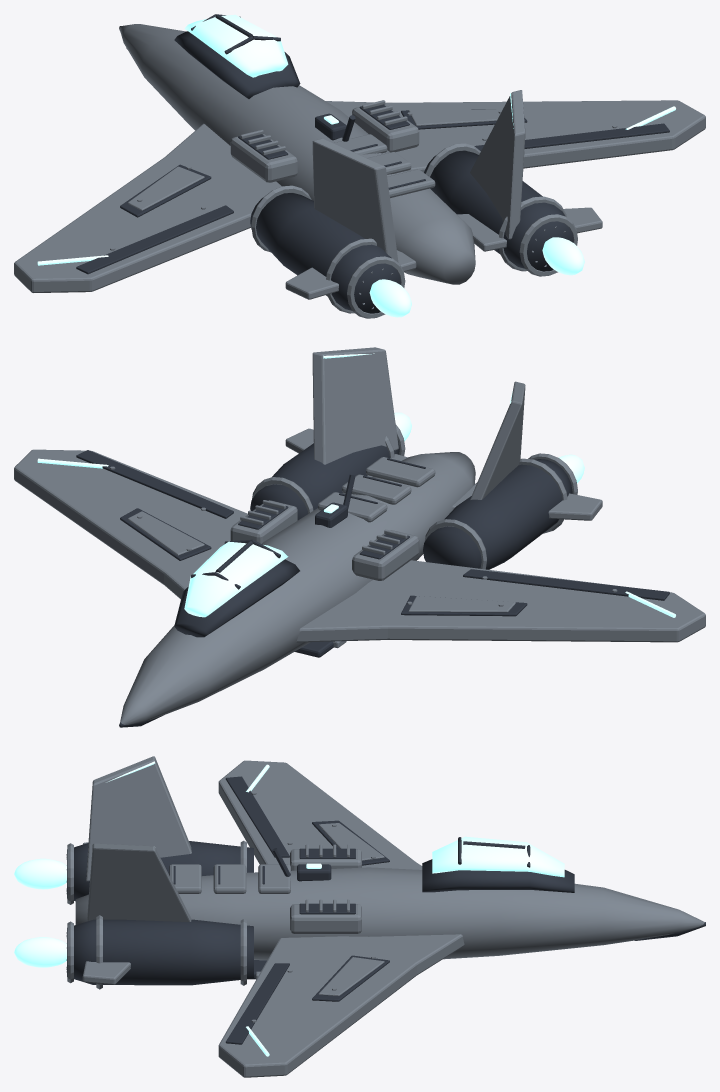
Rendered from SpaceBomber.fbx.
3 renders of one model, top to bottom at view 1: azimuth 30°, elevation 25°; view 2: azimuth 150°, elevation 25°; view 3: azimuth 270°, elevation 25°, orthographic. The views are drawn at different scales.
Visible parts, largest first — view 1: Tapered armored fuselage, Swept tapered wing L, Swept tapered wing R, Engine nacelle L, Canted tail fin L, Engine nacelle R, Canted tail fin R, Faceted cyan canopy, Raised cockpit frame, Trailing control surface L, Intake frame L, Horizontal tailplane R (+18 smaller); view 2: Tapered armored fuselage, Swept tapered wing L, Swept tapered wing R, Engine nacelle L, Canted tail fin R, Engine nacelle R, Faceted cyan canopy, Raised cockpit frame, Canted tail fin L, Trailing control surface L, Trailing control surface R, Intake frame L (+10 smaller); view 3: Tapered armored fuselage, Swept tapered wing R, Engine nacelle R, Swept tapered wing L, Canted tail fin L, Canted tail fin R, Faceted cyan canopy, Raised cockpit frame, Engine nacelle L, Intake frame R, Trailing control surface R, Trailing control surface L (+13 smaller).
Part boxes in pixels (x1,y1,x2,y2): Tapered armored fuselage: (120,24,475,284); Swept tapered wing L: (14,123,281,292); Swept tapered wing R: (326,100,705,172); Engine nacelle L: (250,193,400,313); Canted tail fin L: (312,138,398,262); Engine nacelle R: (424,150,573,271); Canted tail fin R: (470,90,525,239); Faceted cyan canopy: (184,14,288,77); Raised cockpit frame: (174,31,300,98); Trailing control surface L: (76,205,233,274); Intake frame L: (230,134,297,182); Horizontal tailplane R: (457,207,602,251); Tapered armored fuselage: (120,452,475,724); Swept tapered wing L: (296,560,705,642); Swept tapered wing R: (14,449,247,599); Engine nacelle L: (423,459,572,569); Canted tail fin R: (312,347,398,464); Engine nacelle R: (250,440,399,520); Faceted cyan canopy: (184,541,288,617); Raised cockpit frame: (174,559,299,637); Canted tail fin L: (470,381,525,500); Trailing control surface L: (463,569,669,600); Trailing control surface R: (76,450,233,518); Intake frame L: (352,530,419,580); Tapered armored fuselage: (75,867,704,960); Swept tapered wing R: (218,934,464,1077); Engine nacelle R: (67,919,253,985); Swept tapered wing L: (218,760,422,869); Canted tail fin L: (86,756,191,881); Canted tail fin R: (87,843,191,921); Faceted cyan canopy: (432,836,564,877); Raised cockpit frame: (422,859,574,892); Engine nacelle L: (67,841,253,901); Intake frame R: (290,904,361,933); Trailing control surface R: (225,963,289,1044); Trailing control surface L: (225,776,289,857).
Bounding box in the file's own units: 422 × 102 × 404.
